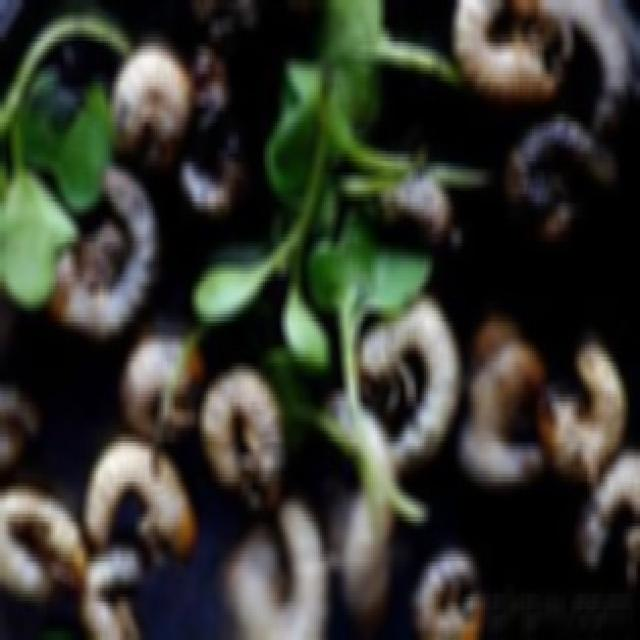grub: (444, 1, 638, 235), (48, 153, 162, 329), (358, 293, 460, 466), (226, 489, 344, 633), (3, 466, 93, 601), (87, 453, 197, 558), (540, 346, 628, 469), (200, 377, 287, 500), (470, 341, 551, 473), (102, 41, 198, 146), (118, 320, 206, 434), (72, 541, 154, 624), (376, 173, 458, 247), (415, 547, 488, 630)
